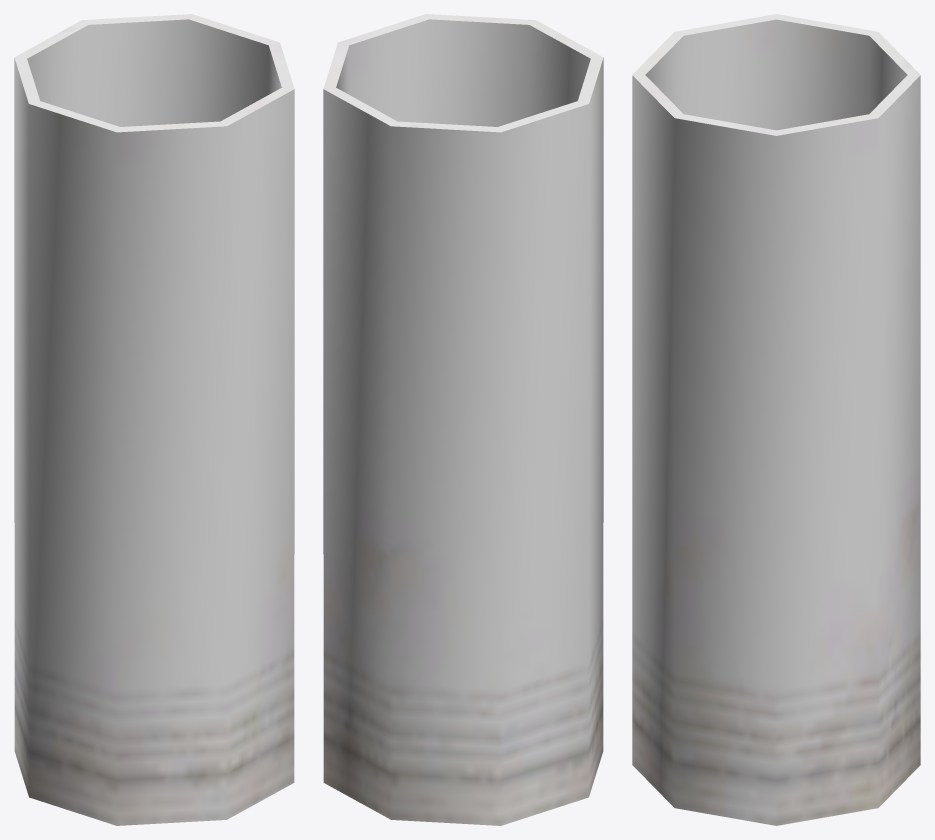
File: edb_con_tato_cup_s2_l0.fbx
3 views of the same model, side by side, from view 1: azimuth 30°, elevation 25°; view 2: azimuth 150°, elevation 25°; view 3: azimuth 270°, elevation 25° (orthographic).
Visible parts, largest first — view 1: mesh_node; view 2: mesh_node; view 3: mesh_node.
Boxes of the visible parts, x1,y1,x2,y2 form: mesh_node: [14, 14, 294, 825]; mesh_node: [323, 14, 603, 825]; mesh_node: [632, 14, 920, 825].
Bounding box in the file's own units: 0.0924 × 0.2438 × 0.0924.
Materials: 1 (1 with a texture image).
